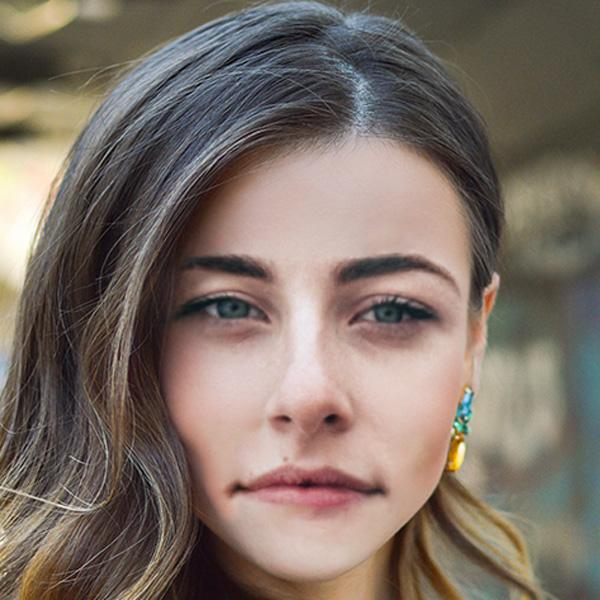Eyes: (169, 279, 285, 340), (334, 285, 442, 345)
